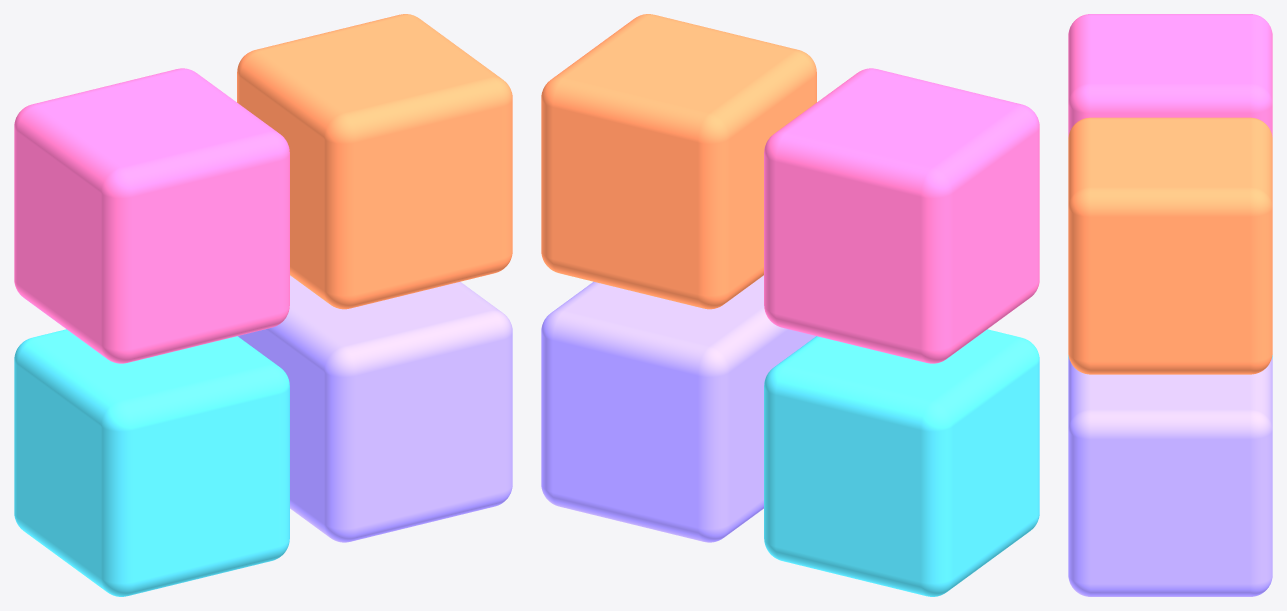
Rendered from icon.glb.
3 renders of one model, left to right at view 1: azimuth 30°, elevation 25°; view 2: azimuth 150°, elevation 25°; view 3: azimuth 270°, elevation 25°, orthographic. The views are drawn at different scales.
Parts seen in each view (by area): view 1: SM_Icon_Pink_TL, SM_Icon_Cyan_BL, SM_Icon_Orange_TR, SM_Icon_Violet_BR; view 2: SM_Icon_Pink_TL, SM_Icon_Cyan_BL, SM_Icon_Orange_TR, SM_Icon_Violet_BR; view 3: SM_Icon_Orange_TR, SM_Icon_Violet_BR, SM_Icon_Pink_TL.
Boxes of the visible parts, <box> form: SM_Icon_Pink_TL: <box>14,68,289,363</box>; SM_Icon_Cyan_BL: <box>14,329,289,596</box>; SM_Icon_Orange_TR: <box>237,14,512,309</box>; SM_Icon_Violet_BR: <box>238,275,512,542</box>; SM_Icon_Pink_TL: <box>764,68,1039,363</box>; SM_Icon_Cyan_BL: <box>764,329,1039,596</box>; SM_Icon_Orange_TR: <box>541,14,816,309</box>; SM_Icon_Violet_BR: <box>541,275,815,542</box>; SM_Icon_Orange_TR: <box>1068,117,1272,374</box>; SM_Icon_Violet_BR: <box>1068,358,1272,596</box>; SM_Icon_Pink_TL: <box>1068,14,1272,136</box>.
Size of the model in its own units: 2.2 by 2.2 by 1.
